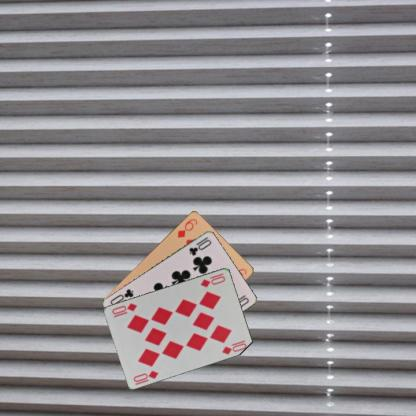10c: (186, 234, 213, 257)
10d: (198, 270, 226, 288), (130, 368, 160, 383)
6d: (175, 216, 199, 238)
